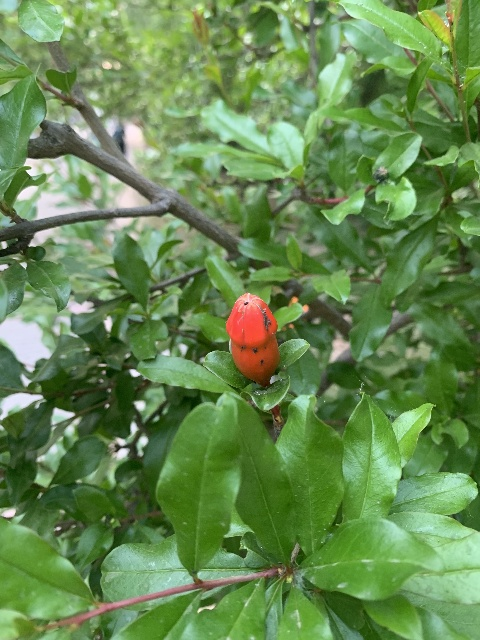bud: (225, 292, 279, 386)
